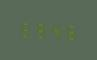five: (18, 18, 32, 39)
four: (48, 20, 62, 40)
nine: (33, 19, 47, 39)
six: (63, 20, 77, 41)
